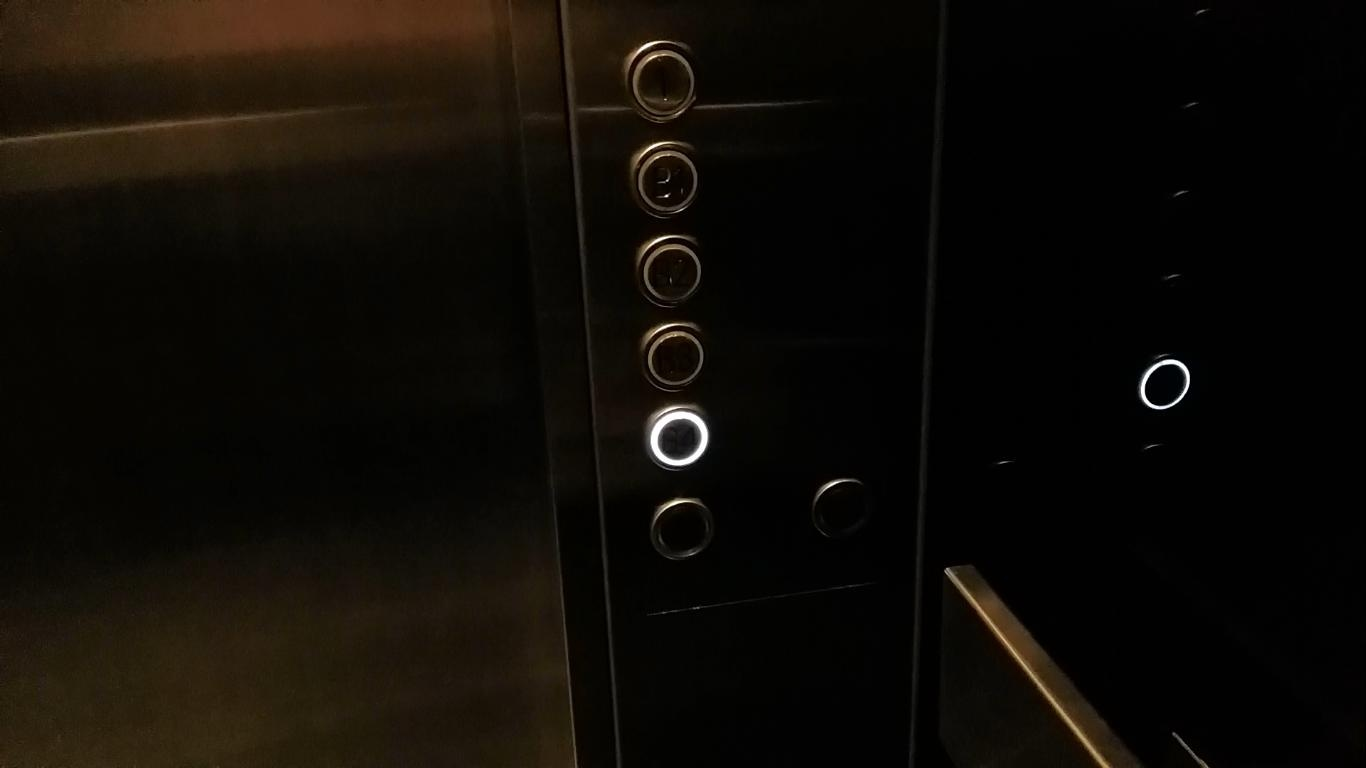1: (624, 38, 696, 124)
B1: (629, 136, 704, 220)
B4: (642, 404, 709, 472)
blur: (638, 233, 707, 308), (640, 322, 705, 393)
empty: (646, 497, 715, 562), (810, 475, 874, 545), (1135, 354, 1192, 412)
